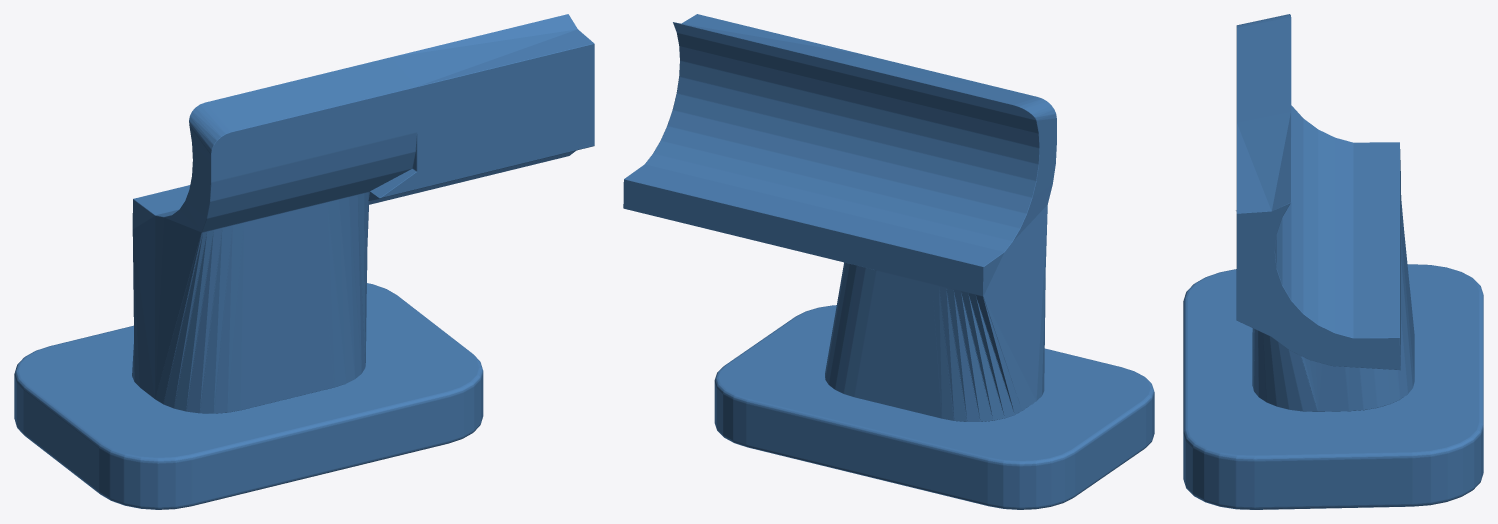
Rendered from VIS_BaseLink.dae.
The picture shows the model from 3 angles, left to right: view 1: azimuth 30°, elevation 25°; view 2: azimuth 150°, elevation 25°; view 3: azimuth 270°, elevation 25°; orthographic projection. The views are drawn at different scales.
Visible parts, largest first — view 1: VIS_BaseLink; view 2: VIS_BaseLink; view 3: VIS_BaseLink.
Boxes of the visible parts, left/top/right/bottom form: VIS_BaseLink: left=14, top=14, right=594, bottom=509; VIS_BaseLink: left=623, top=14, right=1154, bottom=509; VIS_BaseLink: left=1183, top=14, right=1483, bottom=509.
Size of the model in its own units: 0.2297 by 0.1174 by 0.1585.
